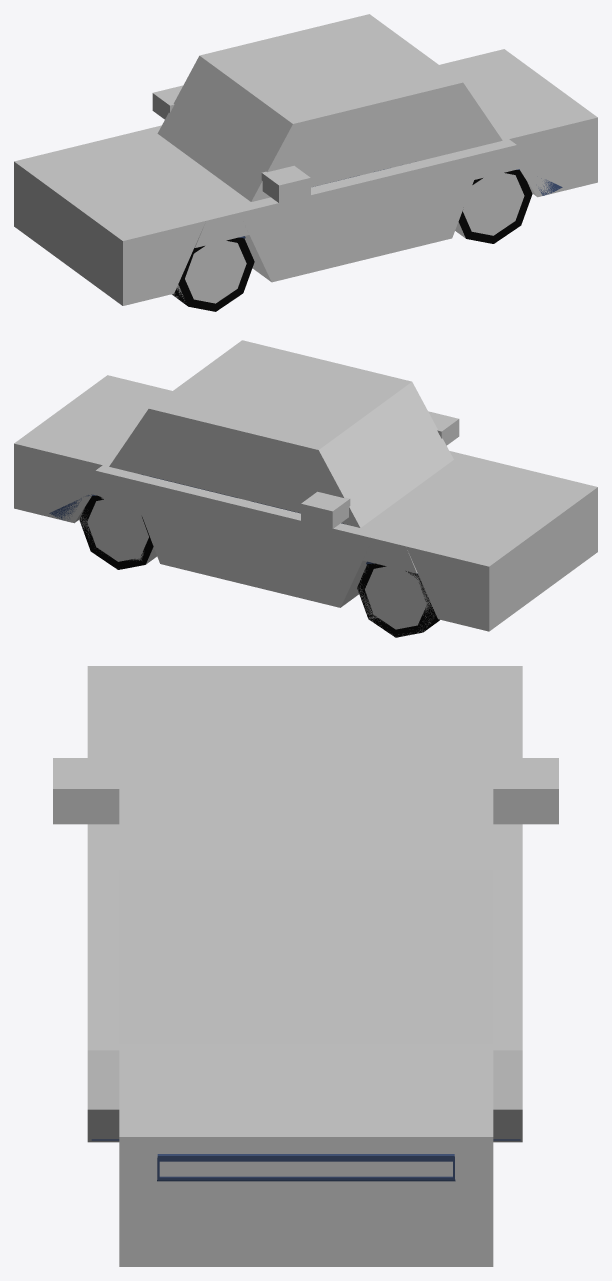
The model's file is SM_Car_05.fbx.
3 renders of one model, top to bottom at view 1: azimuth 30°, elevation 25°; view 2: azimuth 150°, elevation 25°; view 3: azimuth 270°, elevation 25°, orthographic. The views are drawn at different scales.
Visible parts, largest first — view 1: SM_Car_05_ConvexHulls, SM_Car_05; view 2: SM_Car_05_ConvexHulls, SM_Car_05; view 3: SM_Car_05_ConvexHulls, SM_Car_05.
Part boxes in pixels (x1,y1,x2,y2): SM_Car_05_ConvexHulls: (14, 14, 597, 305); SM_Car_05: (172, 169, 562, 311); SM_Car_05_ConvexHulls: (14, 340, 597, 636); SM_Car_05: (49, 474, 439, 637); SM_Car_05_ConvexHulls: (53, 666, 558, 1266); SM_Car_05: (91, 1139, 520, 1181).
Size of the model in its own units: 476 by 216 by 159.
Materials: 2 (1 with a texture image).
